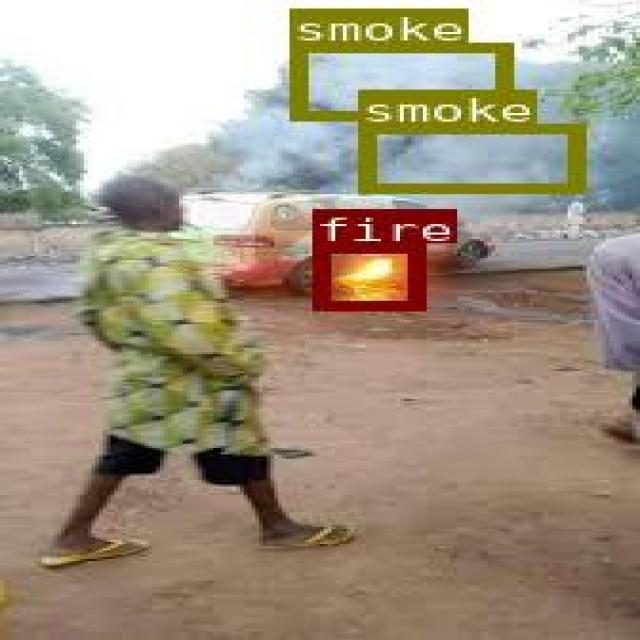fire: (310, 243, 421, 308)
smoke: (286, 42, 508, 119), (357, 122, 580, 192)
